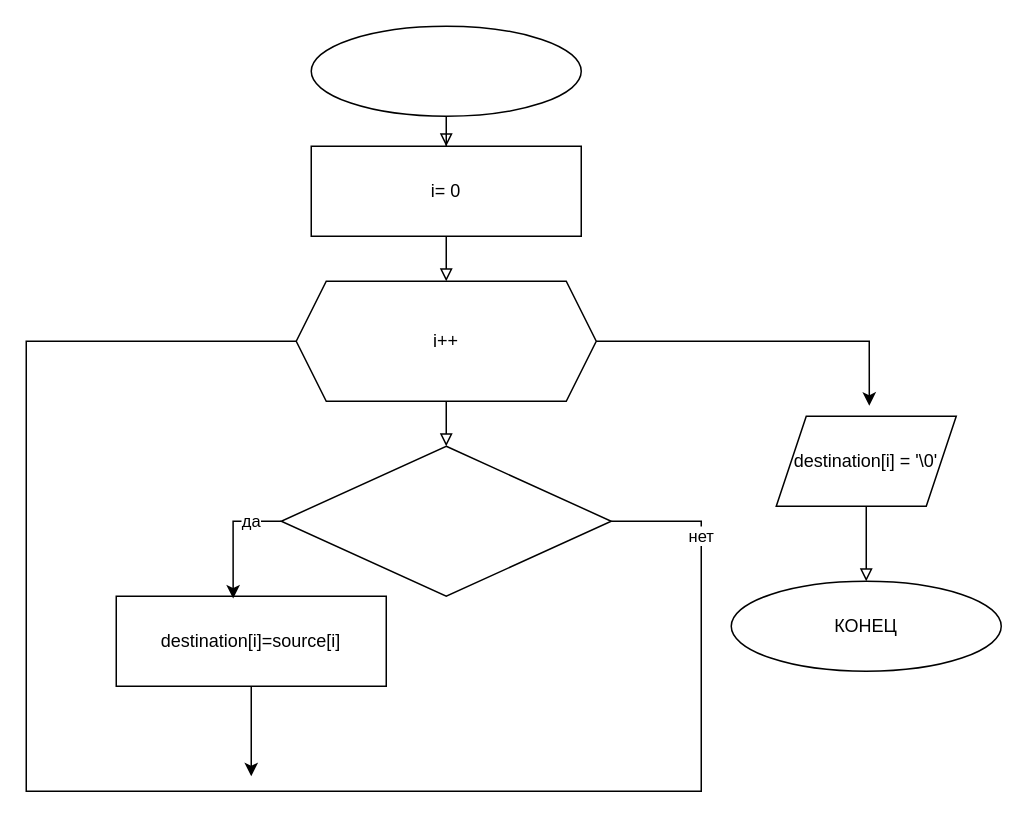
The diagram is 1028 pixels wide and 819 high, and some of its shapes have lost their labels. The shapes that lost their labels are listed below. From the top down, each one's centre as x and y in pixels, then its label:
the point at 445,70: НАЧАЛО
the point at 445,520: source[i] != '\0'
